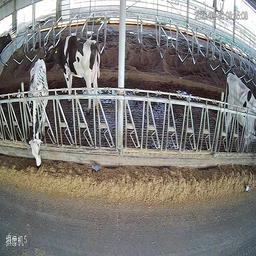cow: (48, 40, 101, 112), (224, 65, 255, 154), (26, 57, 49, 169)
